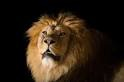lion: (23, 15, 124, 81)
